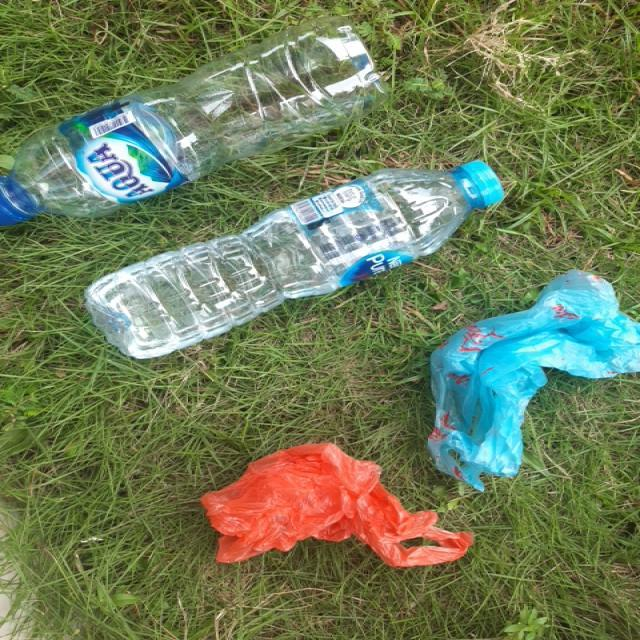Single-layer Plastic: (428, 270, 640, 491), (201, 444, 472, 568)
